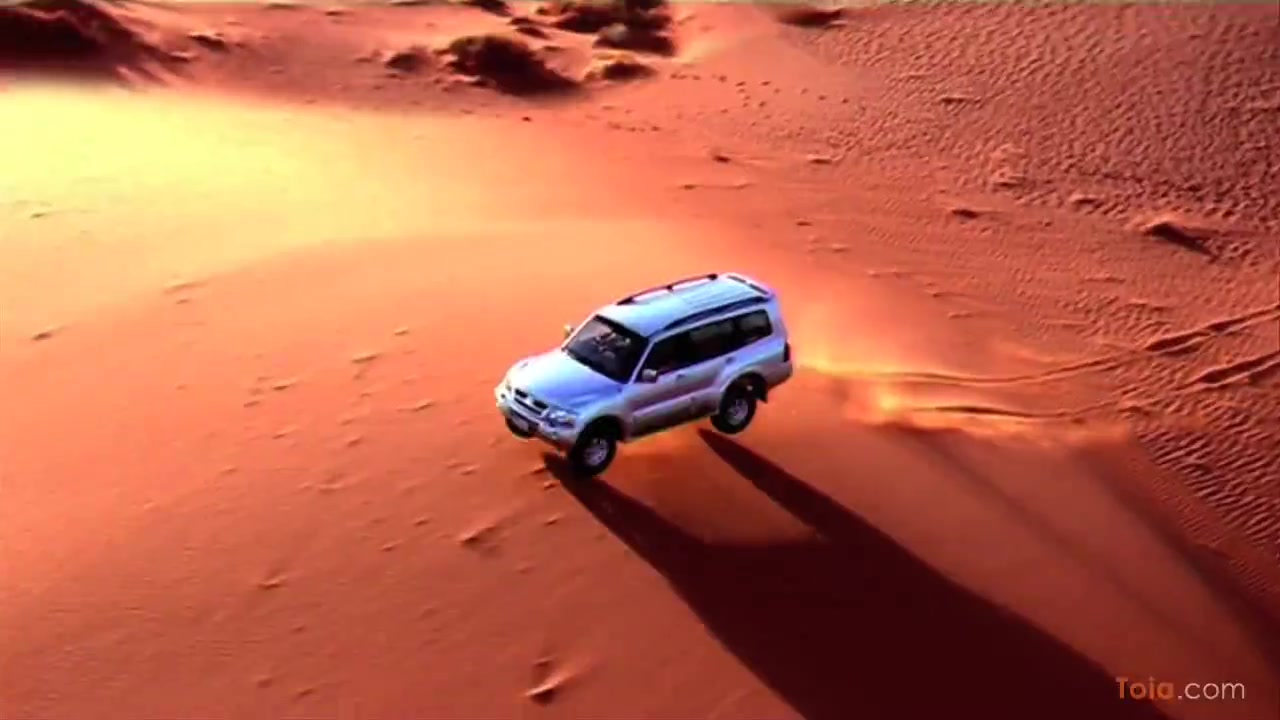car: (494, 267, 799, 477)
